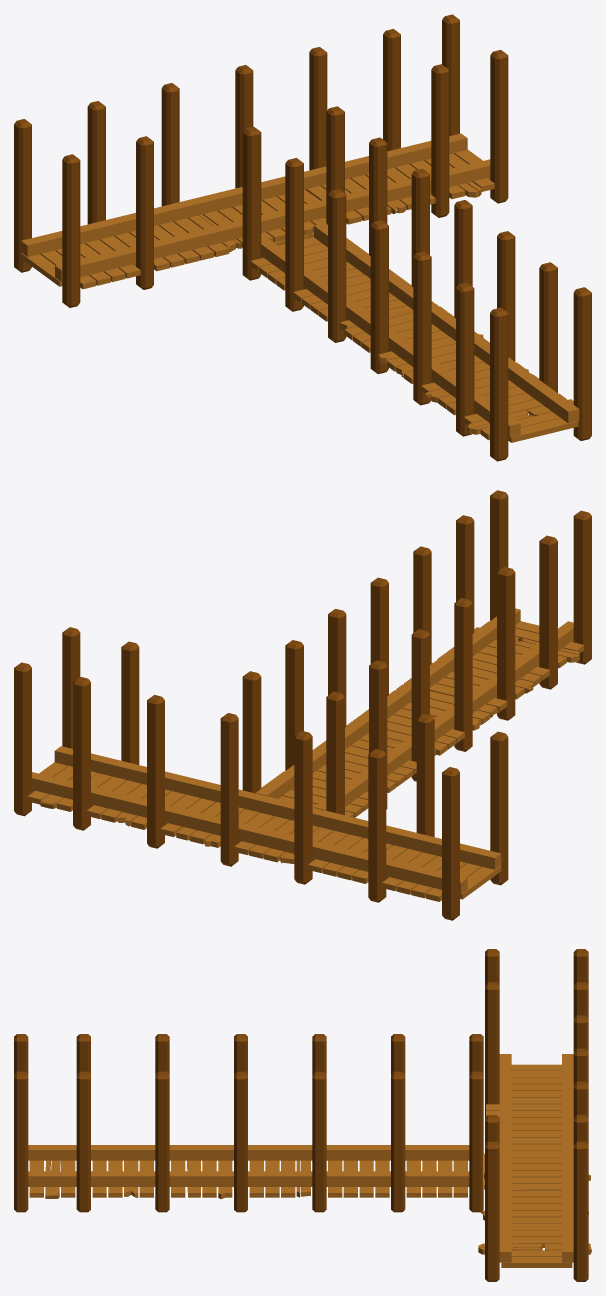
Rendered from dock-combined.fbx.
3 renders of one model, top to bottom at view 1: azimuth 30°, elevation 25°; view 2: azimuth 150°, elevation 25°; view 3: azimuth 270°, elevation 25°, orthographic. The views are drawn at different scales.
Visible parts, largest first — view 1: dock.011; view 2: dock.011; view 3: dock.011.
Part boxes in pixels (x1,y1,x2,y2): dock.011: (14,14,591,461); dock.011: (14,490,591,920); dock.011: (14,949,591,1281).
Bounding box in the file's own units: 1268 × 431 × 1560.
